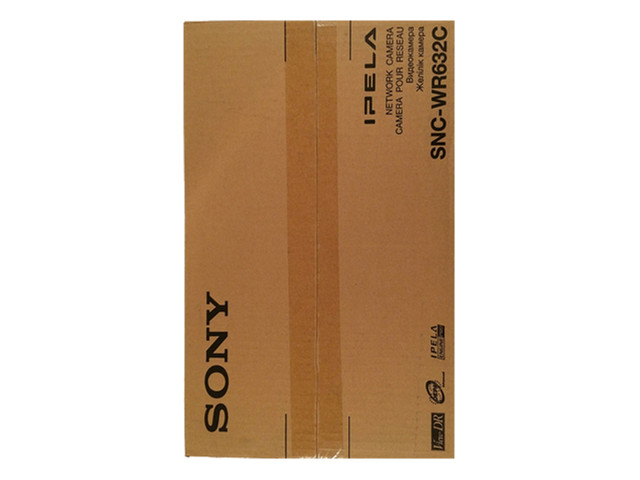cardboard: (185, 21, 454, 456)
